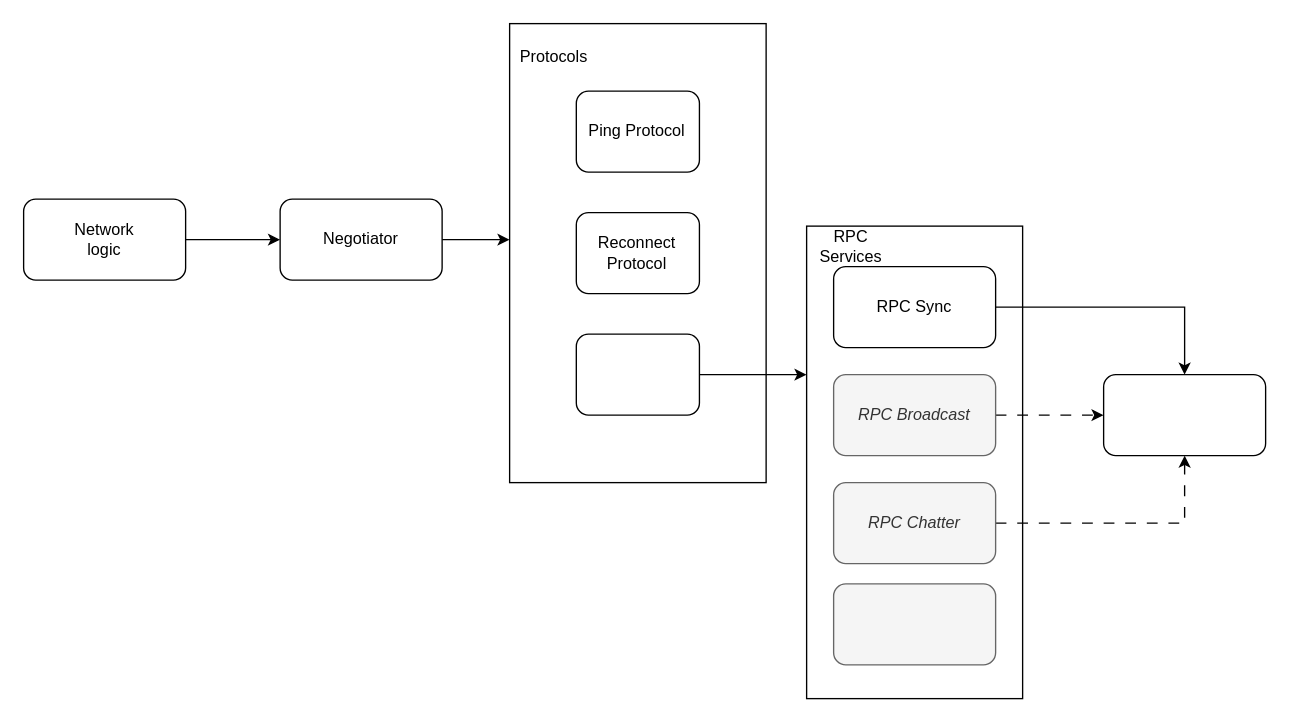
The diagram is 1289 pixels wide and 722 high, and some of its shapes have lost their labels. Here are the shapes that lost their labels. From the top down, the box of each, then its label:
(575, 333, 699, 415): RPC Protocol
(1102, 373, 1266, 456): Shadowgraph Synchronizer
(832, 583, 996, 665): Future event or non-event protocols
